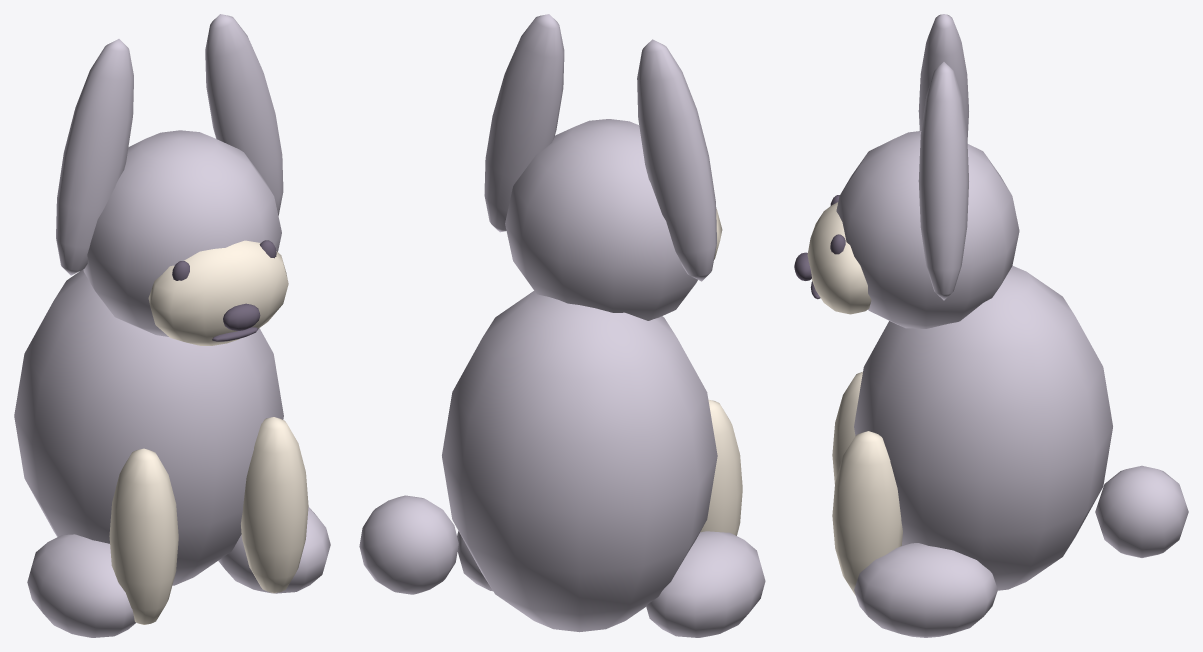
The model's file is rabbit-support.glb.
3 views of the same model, side by side, from view 1: azimuth 30°, elevation 25°; view 2: azimuth 150°, elevation 25°; view 3: azimuth 270°, elevation 25° (orthographic). The views are drawn at different scales.
Parts seen in each view (by area): view 1: rabbit support offline illustration; view 2: rabbit support offline illustration; view 3: rabbit support offline illustration.
Boxes of the visible parts, x1=… form: rabbit support offline illustration: x1=14, y1=14, x2=330, y2=637; rabbit support offline illustration: x1=359, y1=14, x2=765, y2=637; rabbit support offline illustration: x1=794, y1=14, x2=1188, y2=637.
Bounding box in the file's own units: 0.43 × 0.8459 × 0.548.
